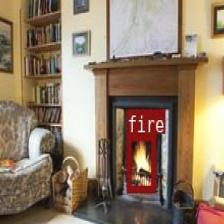fire: (126, 134, 155, 191)
